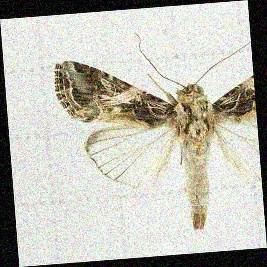Spodoptera litura: (58, 31, 258, 234)
